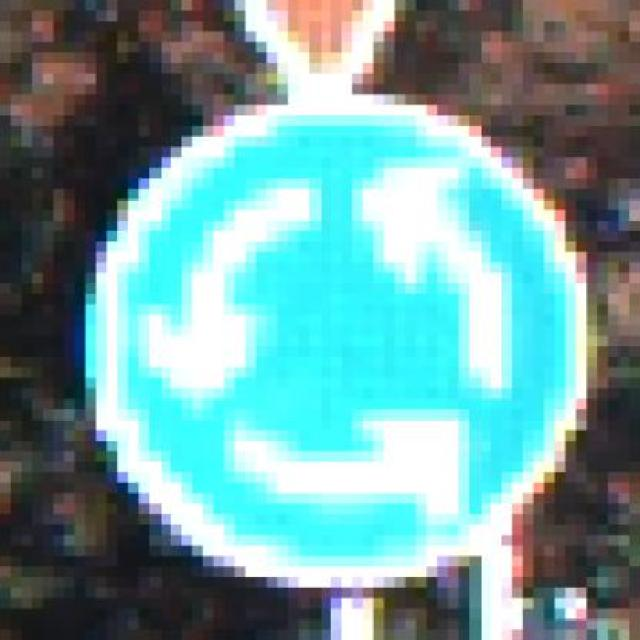Round-About: (42, 94, 620, 598)
